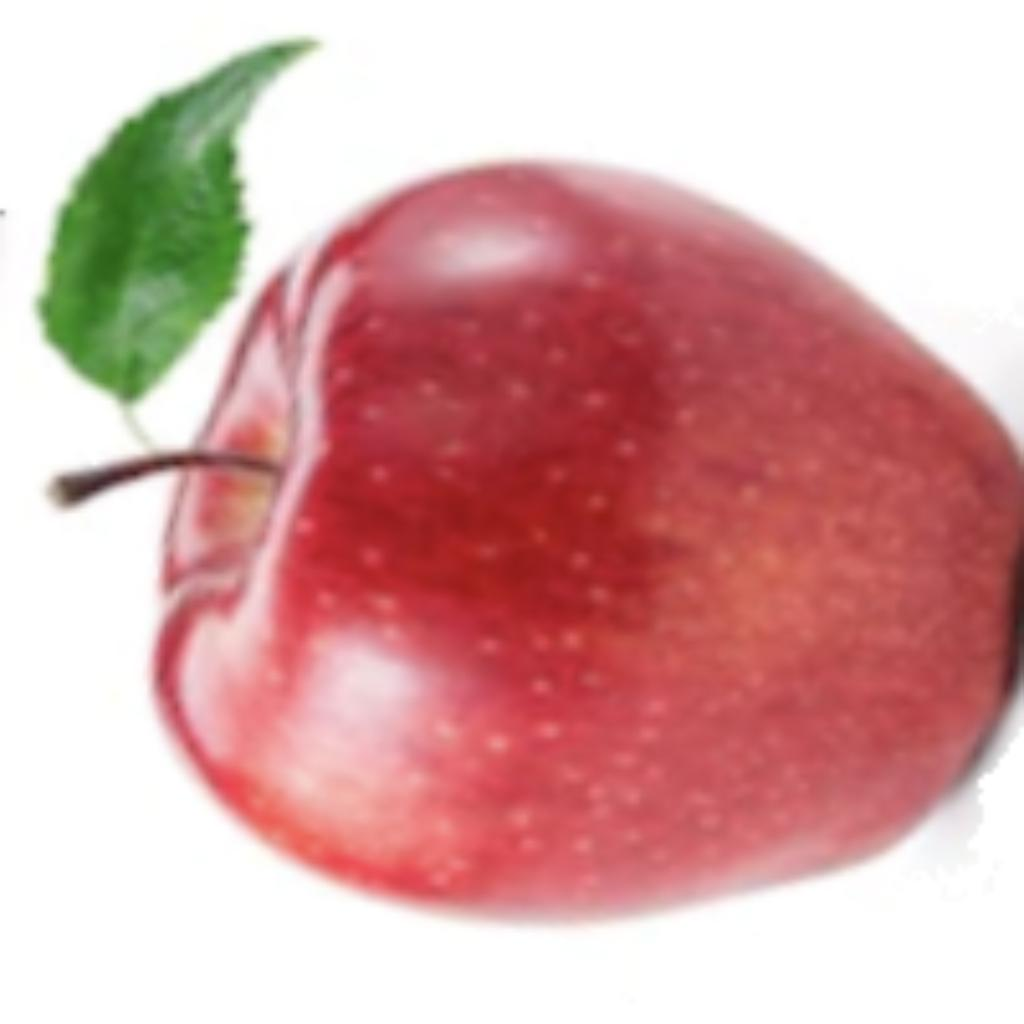apple: (20, 26, 1019, 932)
